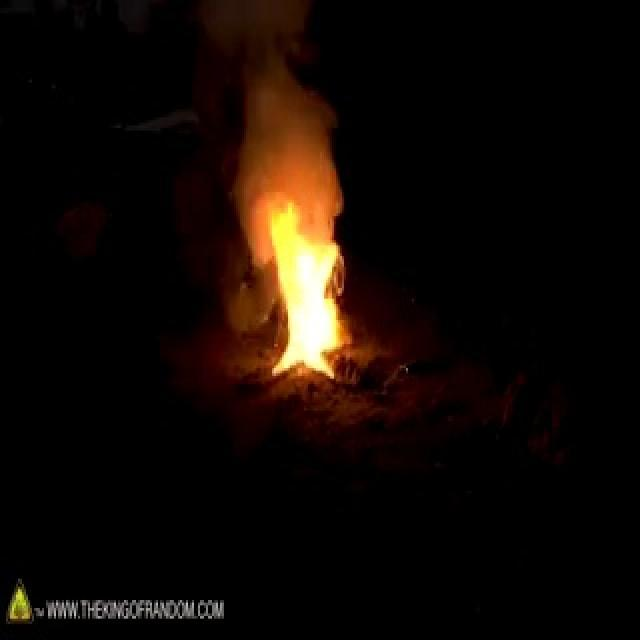Fire: (249, 153, 361, 444)
